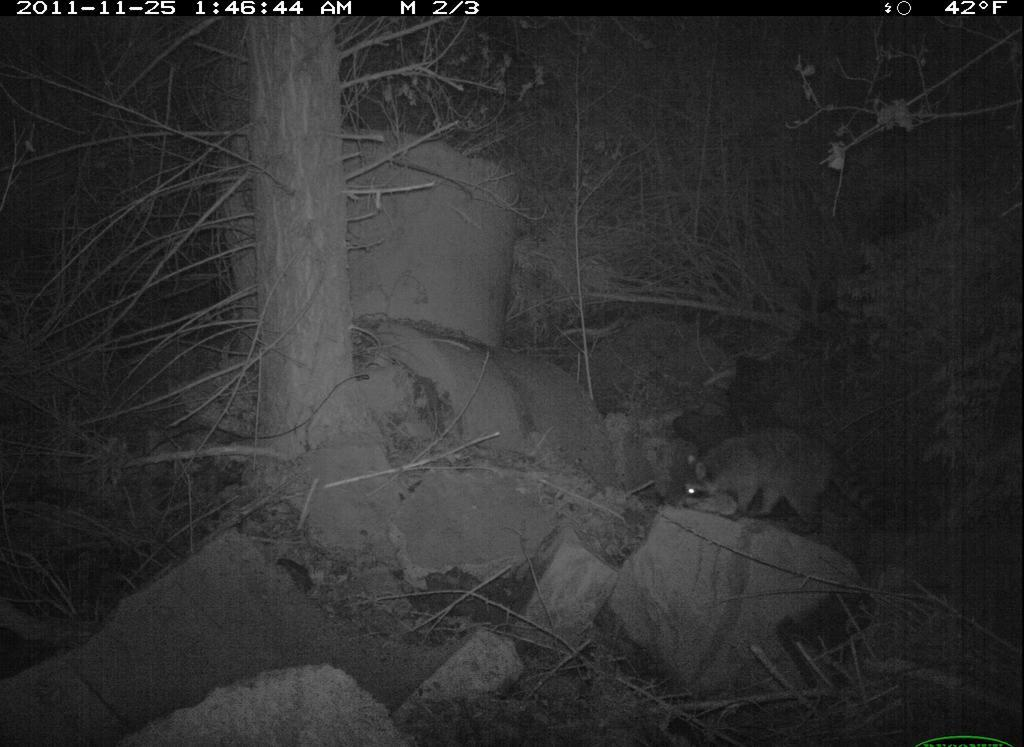raccoon: (673, 418, 907, 542)
